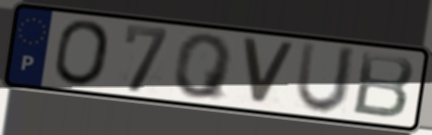7: (121, 22, 173, 95)
B: (349, 49, 418, 121)
O: (52, 17, 114, 89)
Q: (172, 32, 236, 103)
U: (291, 39, 360, 117)
V: (239, 35, 299, 109)
